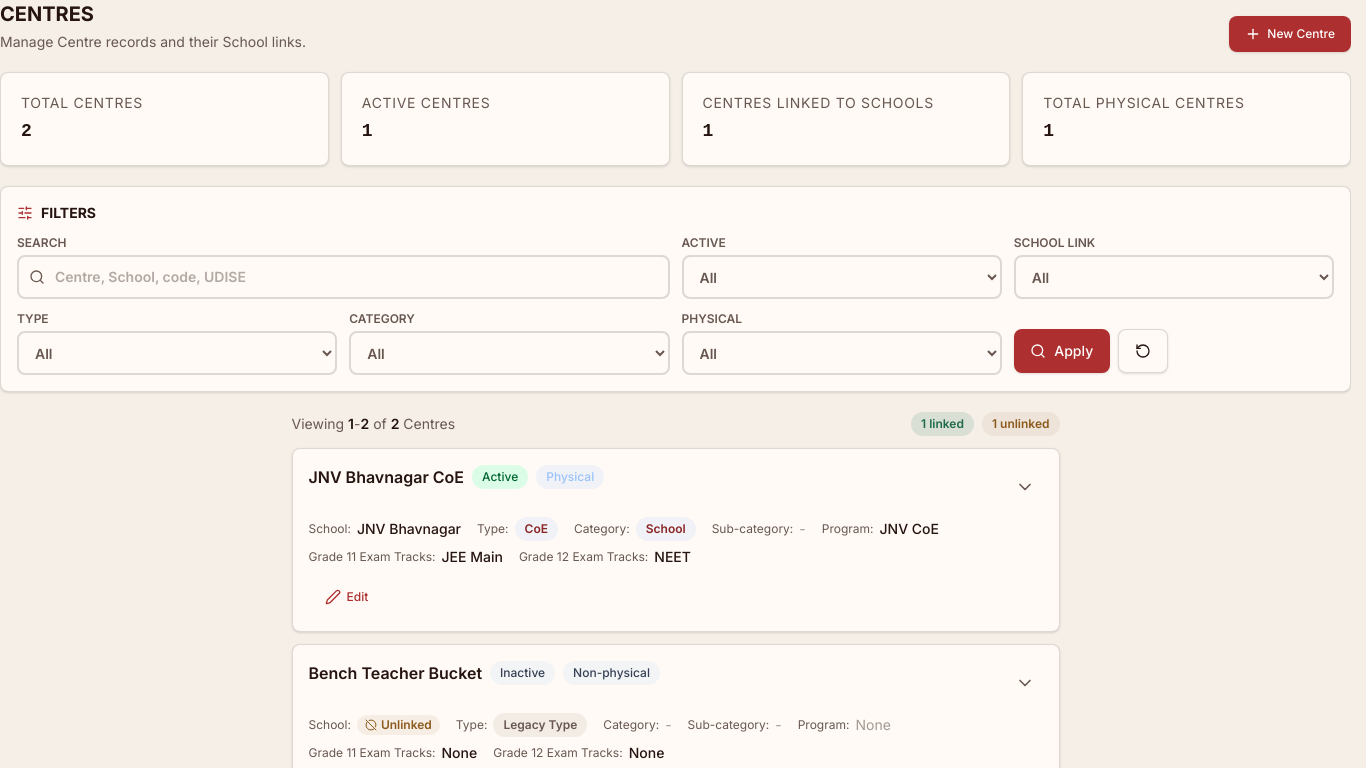
CentreGrid › shows API validation failures without closing the form
Click the button "New Centre": (1290, 34) [1229,16,1351,52]
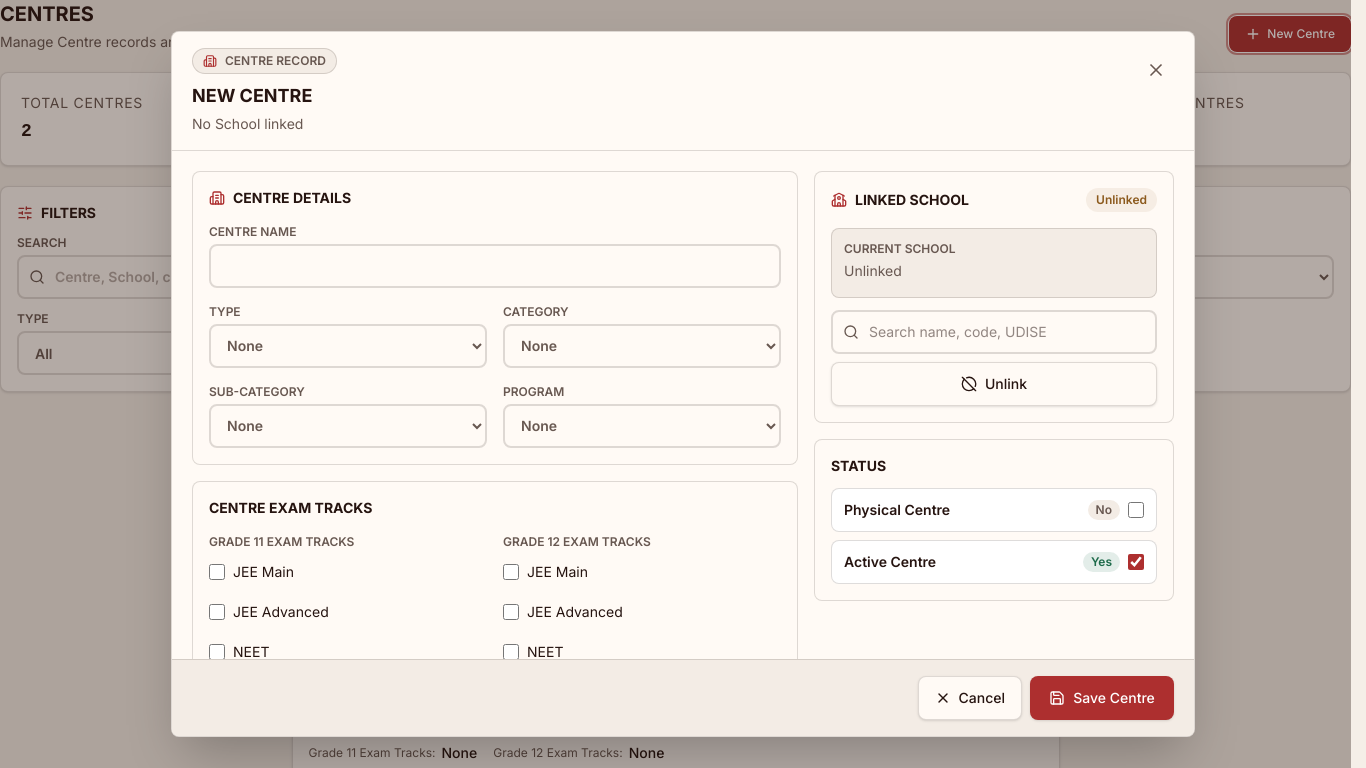
Click the button "Save Centre": (1102, 698) [1030,676,1174,720]
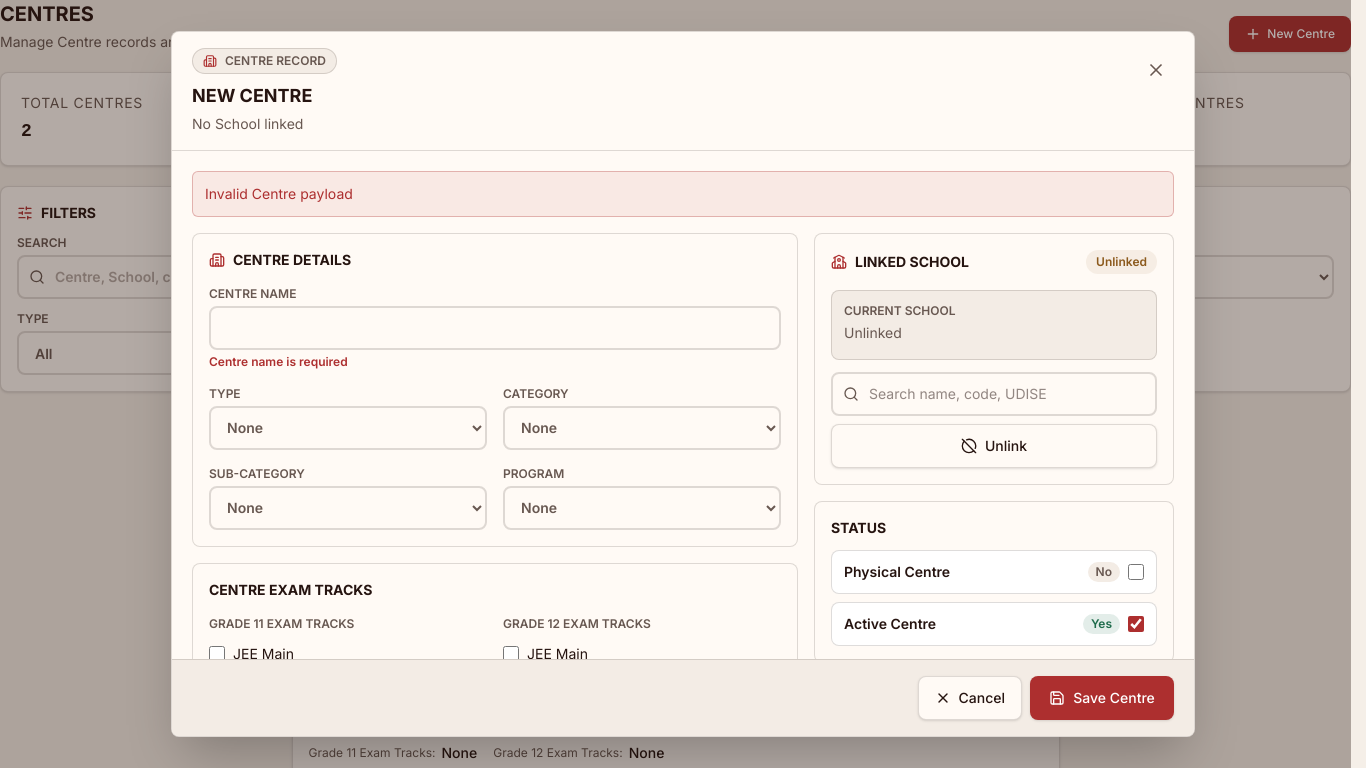
Now the heading "New Centre" is shown, box [192,85,312,106]
Now the text "Invalid Centre payload" is shown, box [192,171,1174,217]
Now the text "Centre name is required" is shown, box [209,354,348,369]
